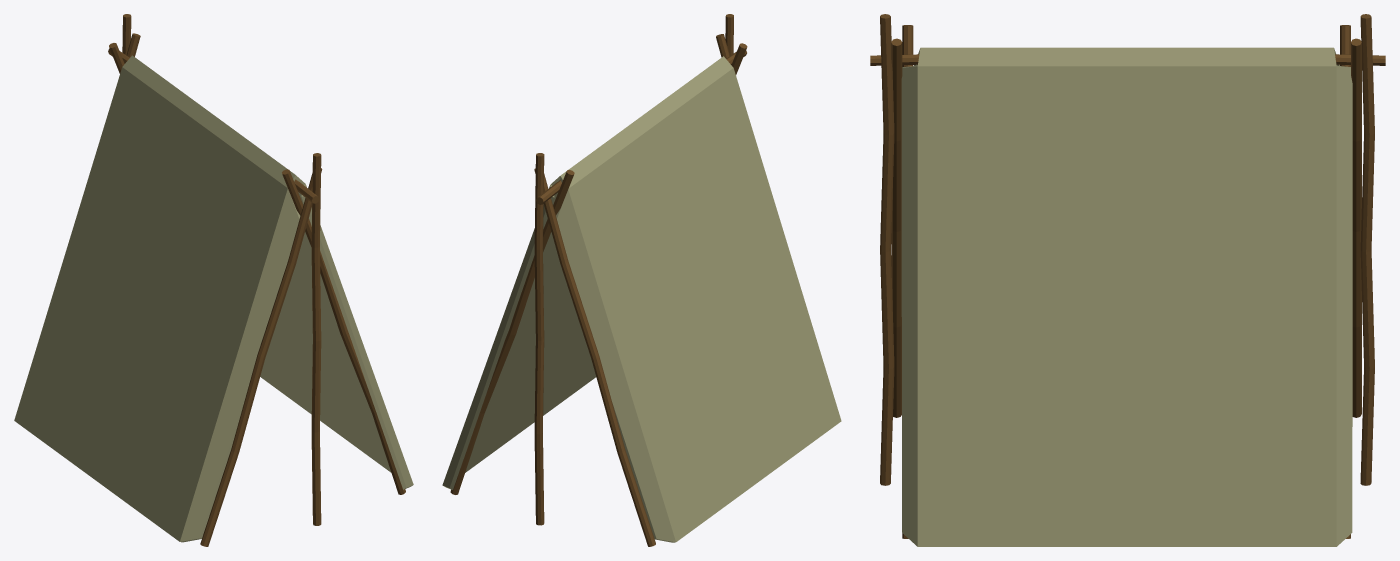
The model's file is Zelt_schmal_01_rdy.fbx.
3 renders of one model, left to right at view 1: azimuth 30°, elevation 25°; view 2: azimuth 150°, elevation 25°; view 3: azimuth 270°, elevation 25°, orthographic. The views are drawn at different scales.
Parts seen in each view (by area): view 1: Zelt_schmal_01; view 2: Zelt_schmal_01; view 3: Zelt_schmal_01.
Boxes of the visible parts, box(x1,y1,x2,y2) form: Zelt_schmal_01: box(14, 14, 413, 546); Zelt_schmal_01: box(442, 14, 841, 546); Zelt_schmal_01: box(870, 14, 1385, 546).
Size of the model in its own units: 642 by 969 by 969.
